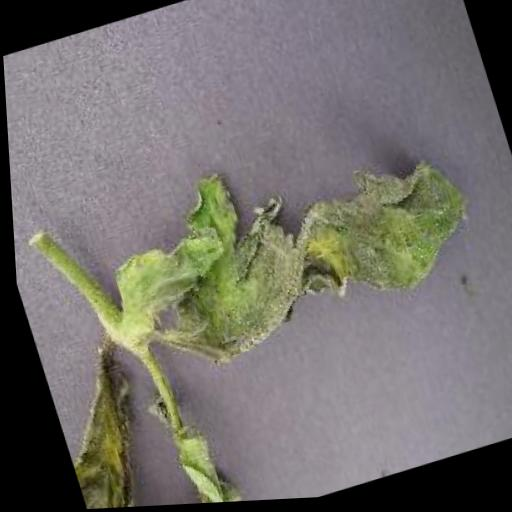Late Blight: (83, 109, 496, 387), (35, 342, 167, 511)
